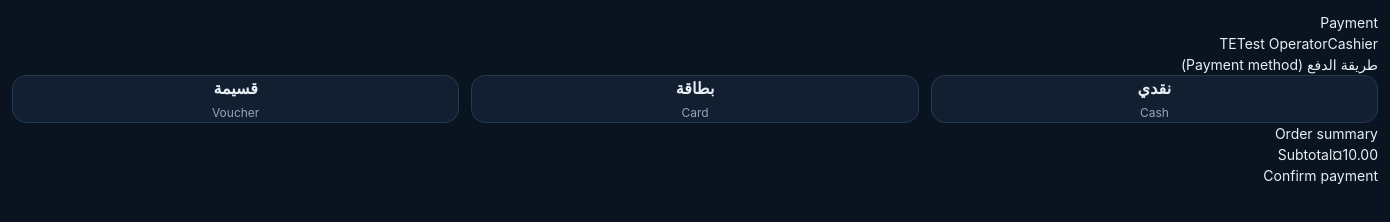
Test: PaymentSurface — bridge rejection handling (CR-10) › surfaces generic refusal copy when payments.confirm rejects
The width and height of the screenshot is (1390, 222).
Step 1. Click the button with test id "payment-surface-confirm" → (1321,176), box [1263,165,1378,186]
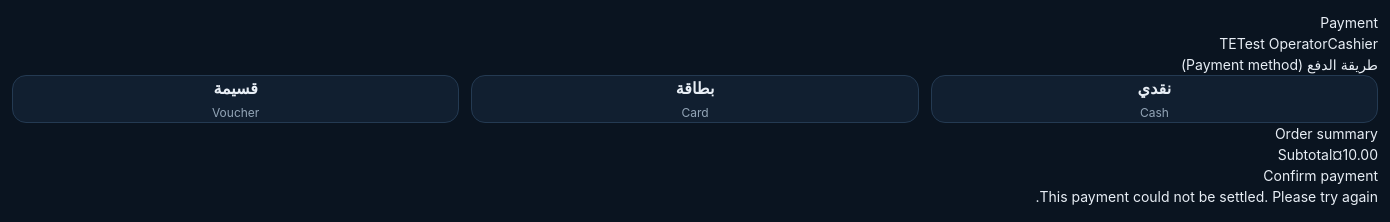
Expected: the message with test id "payment-surface-bridge-refusal" reads "This payment could not be settled. Please try again.", [1035,188,1378,205]
